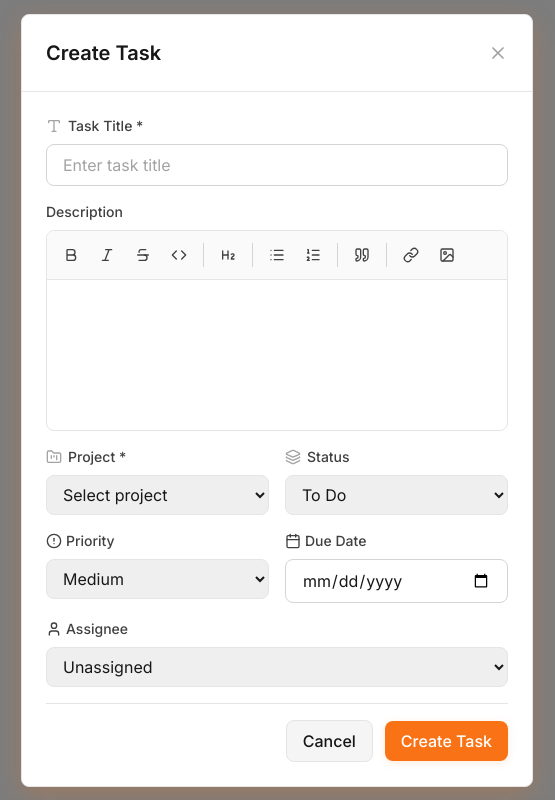
Test case: TaskModal › User Interactions › should clear error when submitting after a failed save
Type "Task" into the field labelled "Task Title *" at x=277, y=164, box x1=46 y1=144 x2=508 y2=186
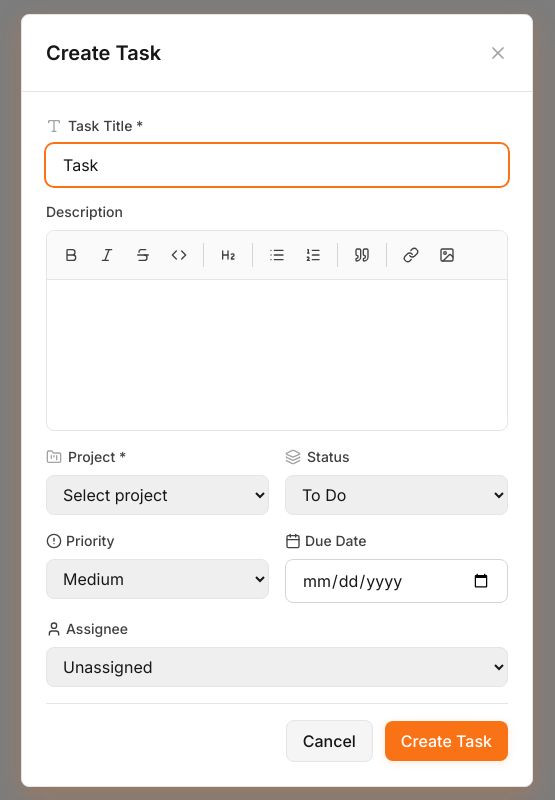
Select "Project Alpha" in the dropdown labelled "Project *" at x=158, y=494, box x1=46 y1=474 x2=269 y2=514
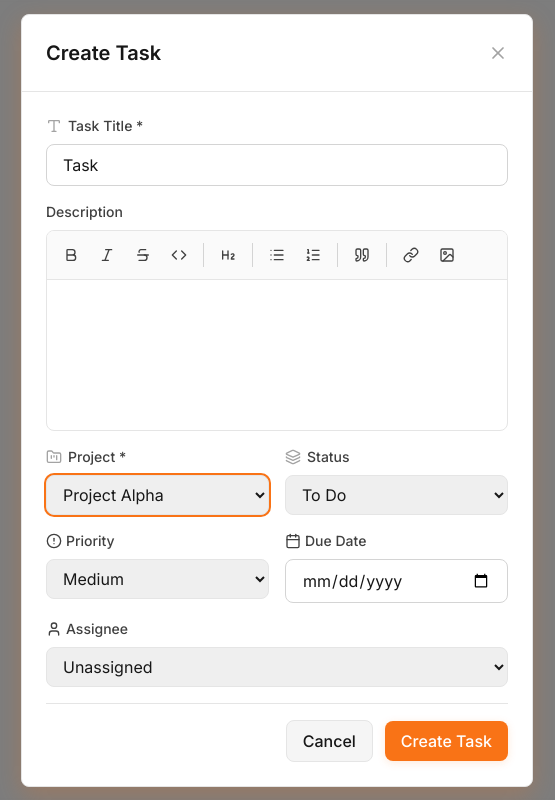
# First submission fails
Click the button "Create Task" at x=446, y=740, box x1=385 y1=720 x2=508 y2=760
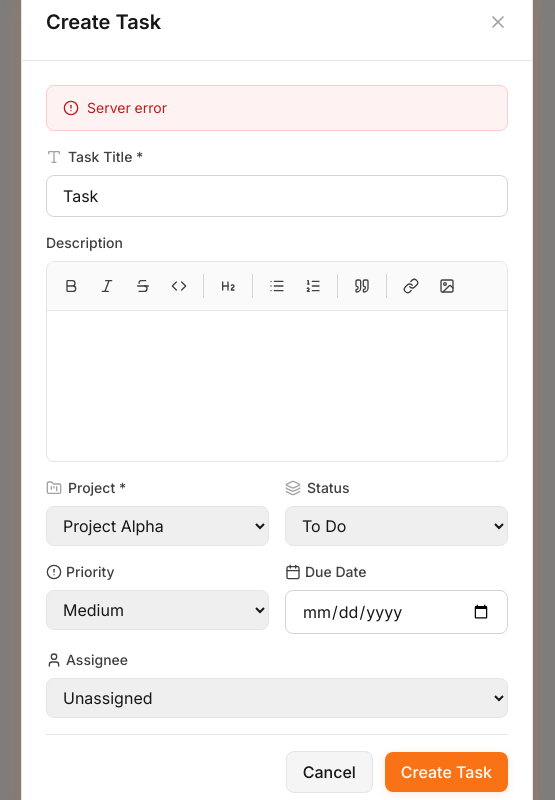
Check: the text "Server error" is shown, box x1=46 y1=84 x2=508 y2=130
# Second submission succeeds and error is cleared
Click the button "Create Task" at x=446, y=772, box x1=385 y1=752 x2=508 y2=792
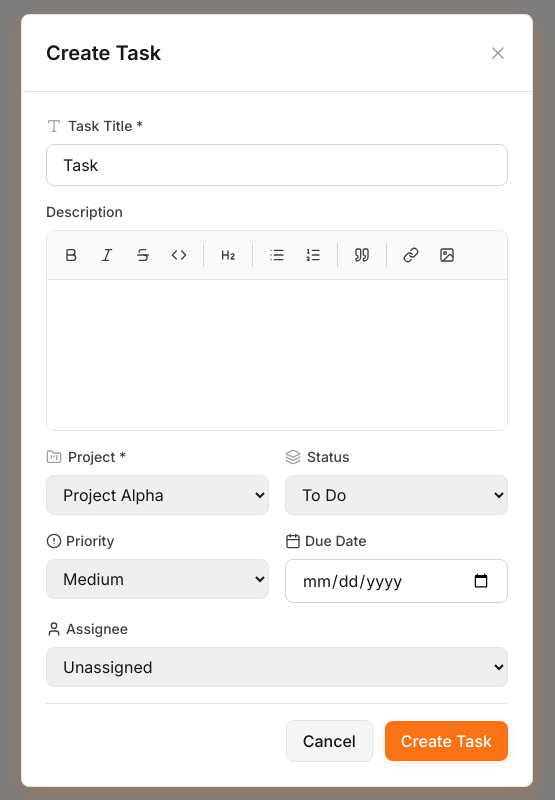
Check: the text "Server error" is gone
